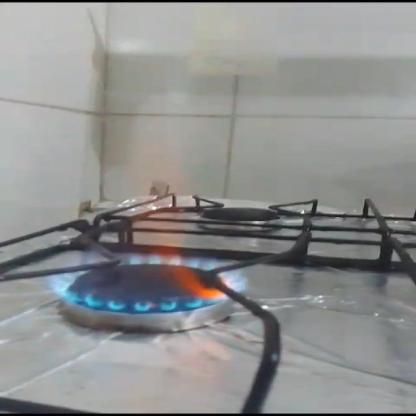fire: (41, 120, 254, 319)
